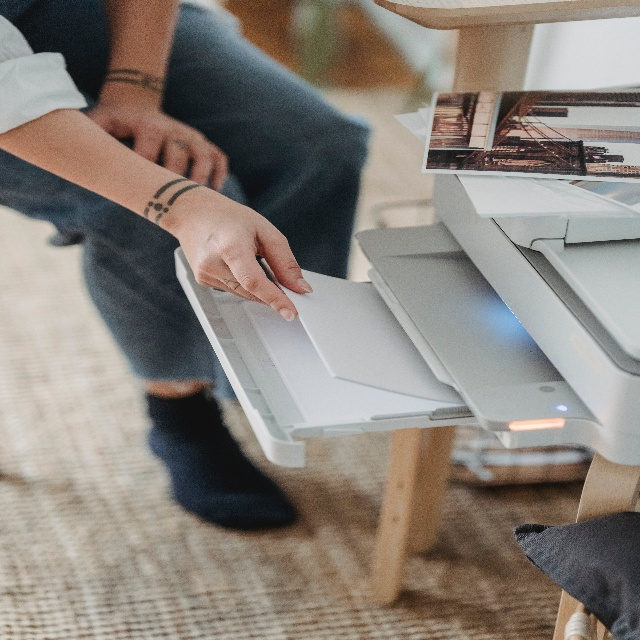Sin_guantes: (179, 188, 314, 321), (88, 101, 229, 190)
